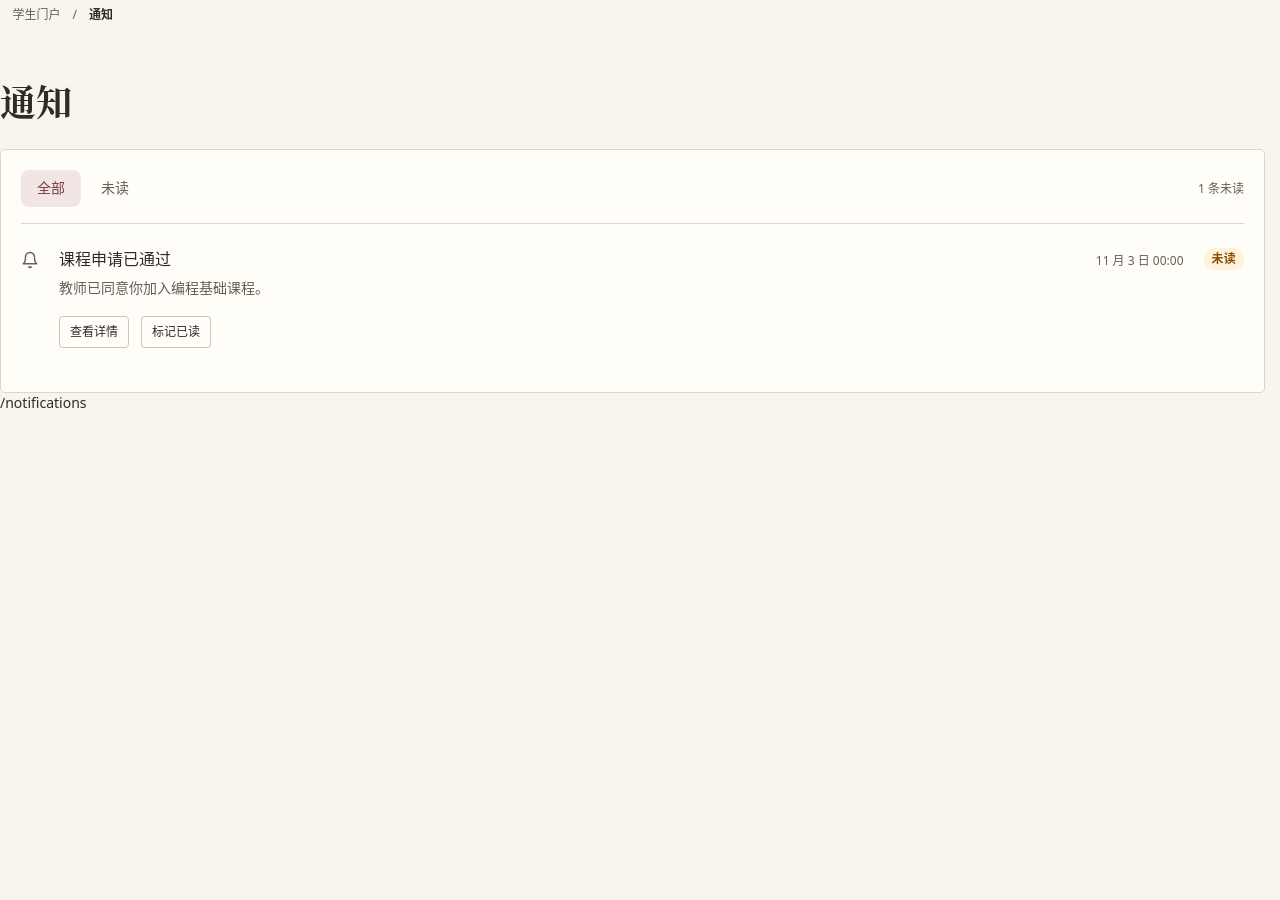
Scenario: 查看课程通知详情先显示正文，留在通知页面
Click the button "查看详情" at coordinates (94, 332), box [59,316,129,348]
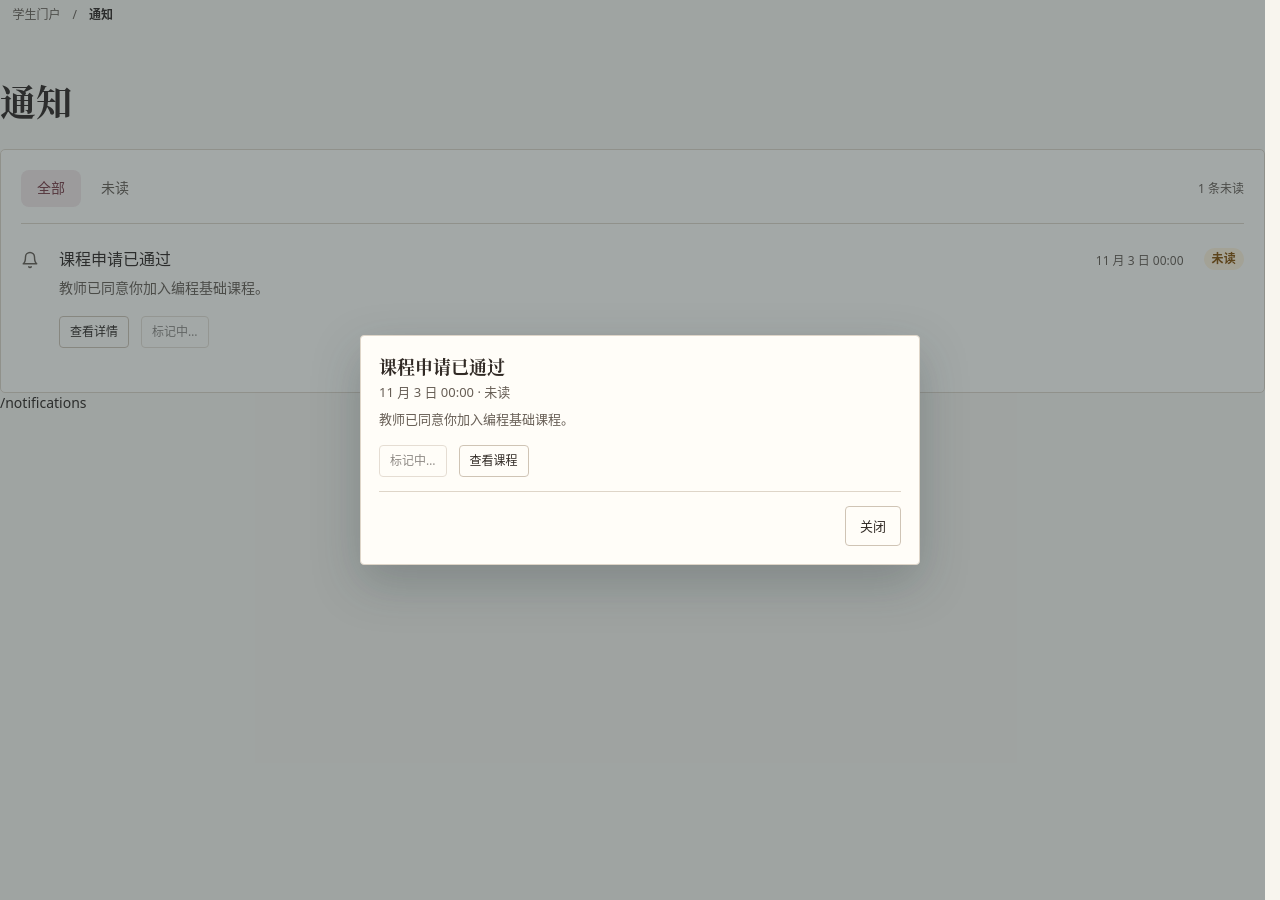
Expected: the text named "当前页面" reads "/notifications", [0,393,86,412]
Now the text "教师已同意你加入编程基础课程。" is shown, box [379,410,574,428]
Click the button "关闭" at coordinates (873, 526), box [845,506,901,546]
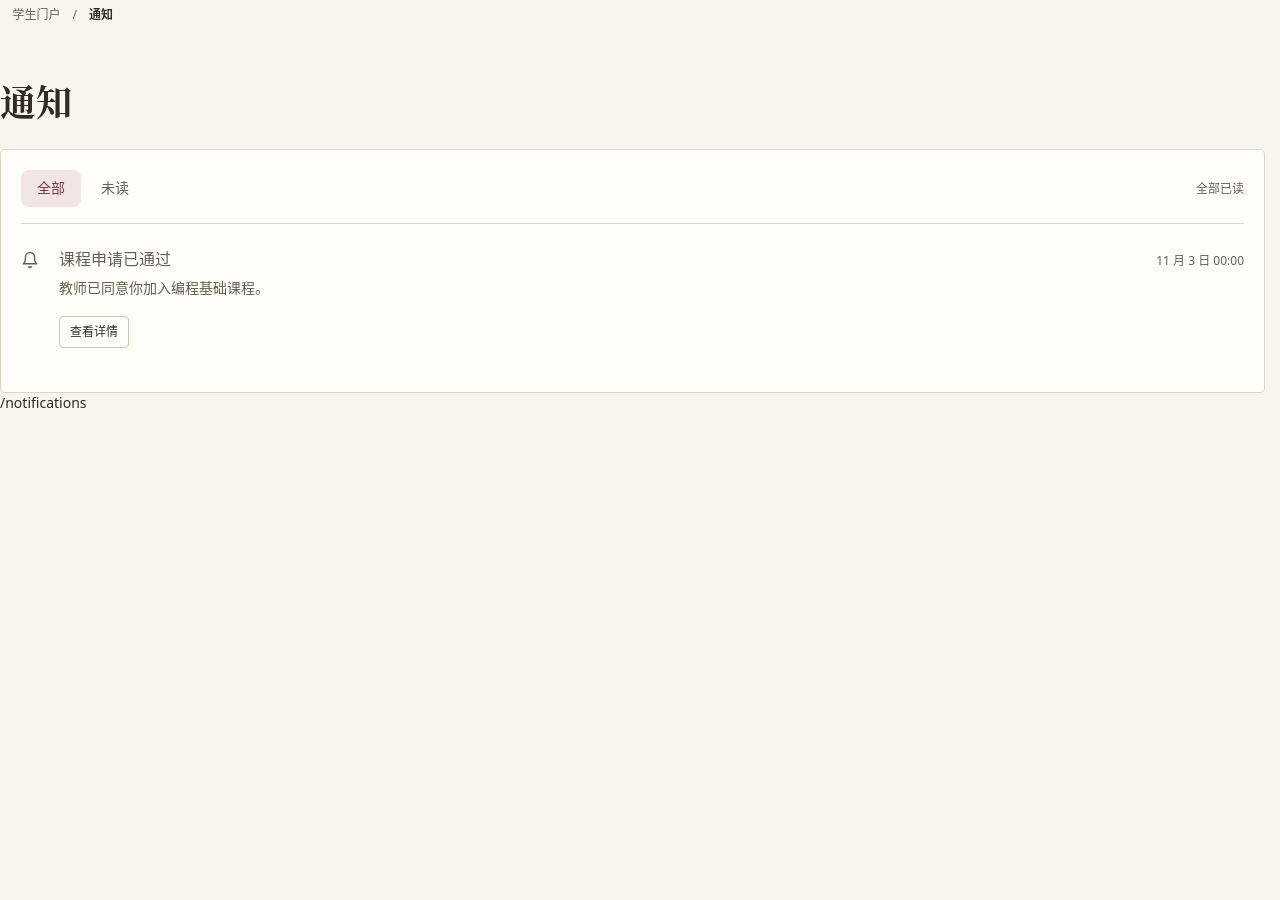
Expected: the text named "当前页面" reads "/notifications", [0,393,86,412]
Now the dialog is gone
